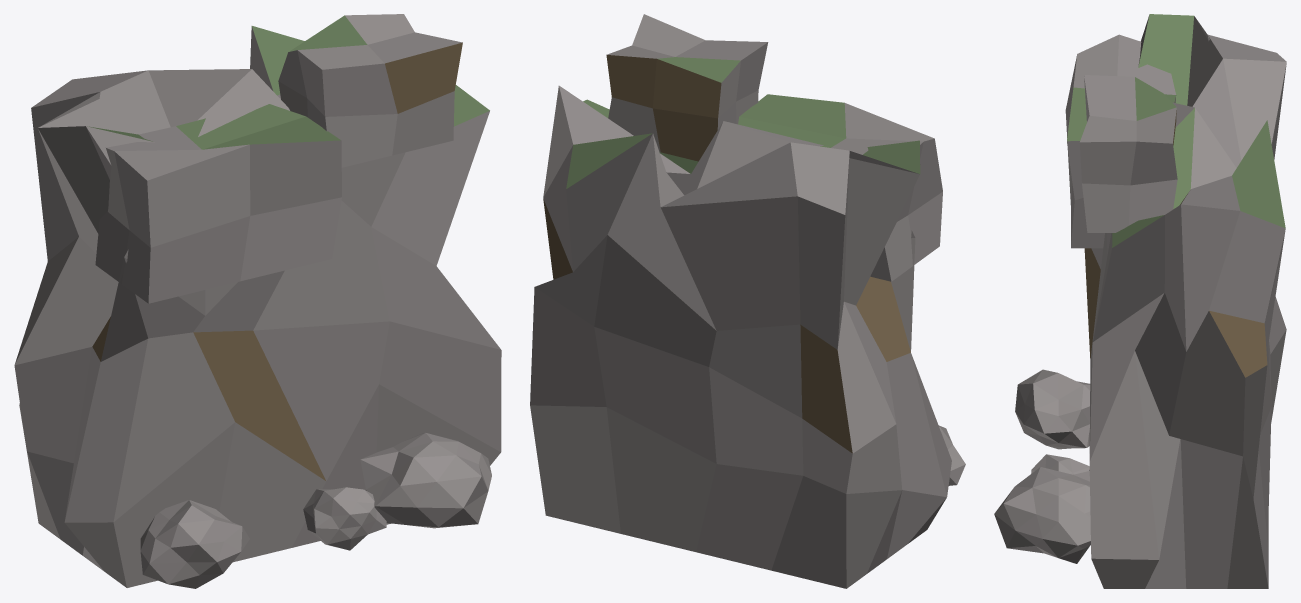
The model's file is edge_cliff.glb.
The picture shows the model from 3 angles, left to right: view 1: azimuth 30°, elevation 25°; view 2: azimuth 150°, elevation 25°; view 3: azimuth 270°, elevation 25°; orthographic projection. The views are drawn at different scales.
Visible parts, largest first — view 1: edge_cliff; view 2: edge_cliff; view 3: edge_cliff.
Boxes of the visible parts, x1,y1,x2,y2 form: edge_cliff: (14, 14, 501, 588); edge_cliff: (530, 14, 965, 588); edge_cliff: (994, 14, 1286, 588).
Bounding box in the file's own units: 5.35 × 6.01 × 3.55.
